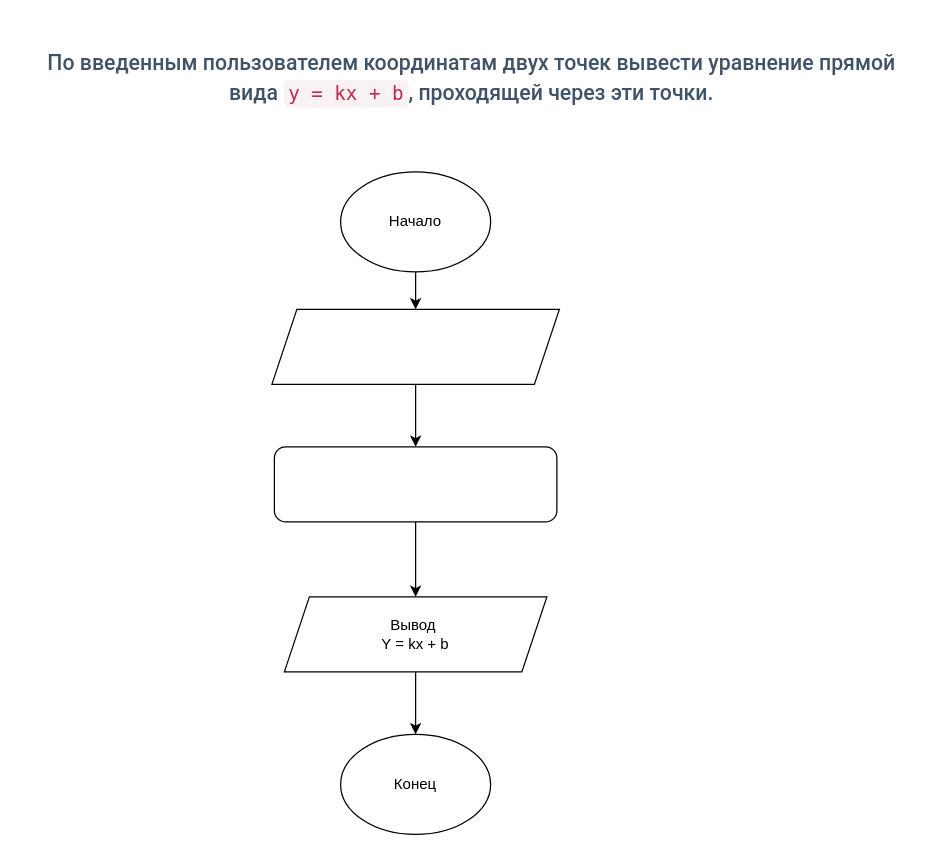
The diagram is 943 pixels wide and 856 high, and some of its shapes have lost their labels. Each missing label, with the centre of its shape:
"b = ( X1*Y2 - X2*Y1 ) / ( X1 - X2 ) k = ( Y2 - Y1 ) / ( X2 - X1 )" goes at (x=415, y=484).
"Ввод Y1,X1,Y2,X2" goes at (x=415, y=346).
